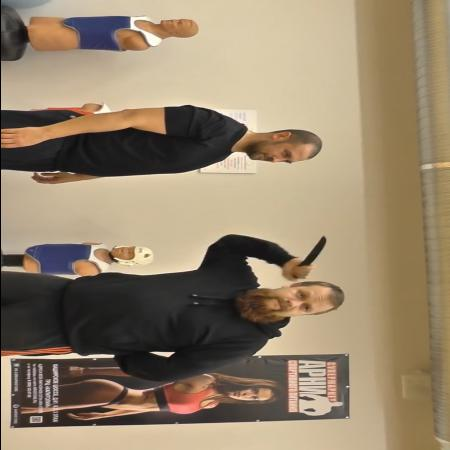long weapon: (282, 232, 332, 281)
